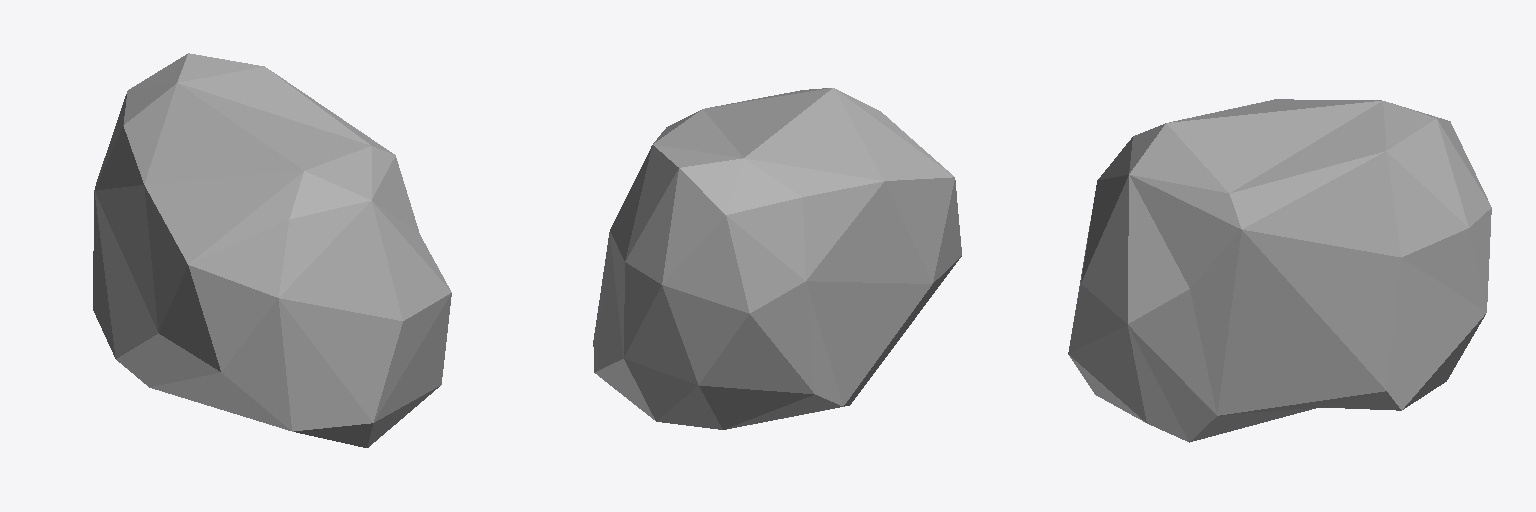
Rendered from Stone02.obj.
The picture shows the model from 3 angles: view 1: azimuth 30°, elevation 25°; view 2: azimuth 150°, elevation 25°; view 3: azimuth 270°, elevation 25°; orthographic projection.
Visible parts, largest first — view 1: Cube_Cube.001; view 2: Cube_Cube.001; view 3: Cube_Cube.001.
Boxes of the visible parts, x1=… form: Cube_Cube.001: x1=93, y1=53, x2=451, y2=447; Cube_Cube.001: x1=593, y1=88, x2=961, y2=429; Cube_Cube.001: x1=1068, y1=99, x2=1491, y2=442.
Bounding box in the file's own units: 3.48 × 3.62 × 4.87.